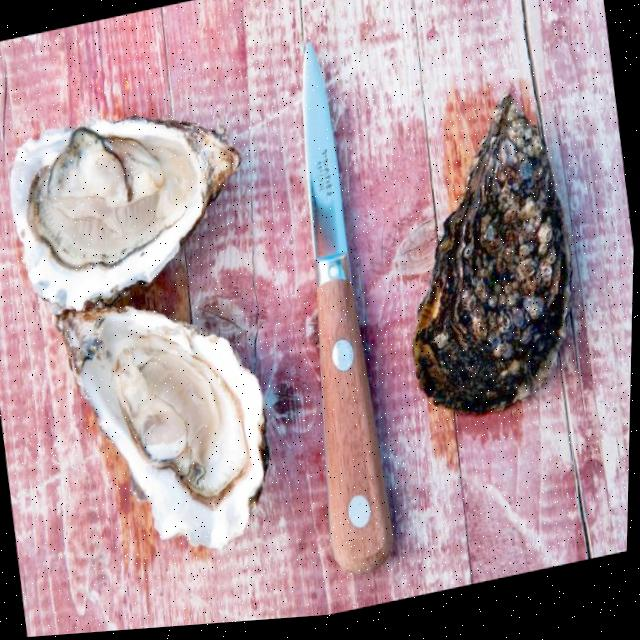Oyster-Indeterminate: (378, 79, 593, 436)
Oyster-Open: (45, 266, 287, 582), (1, 88, 257, 326)
